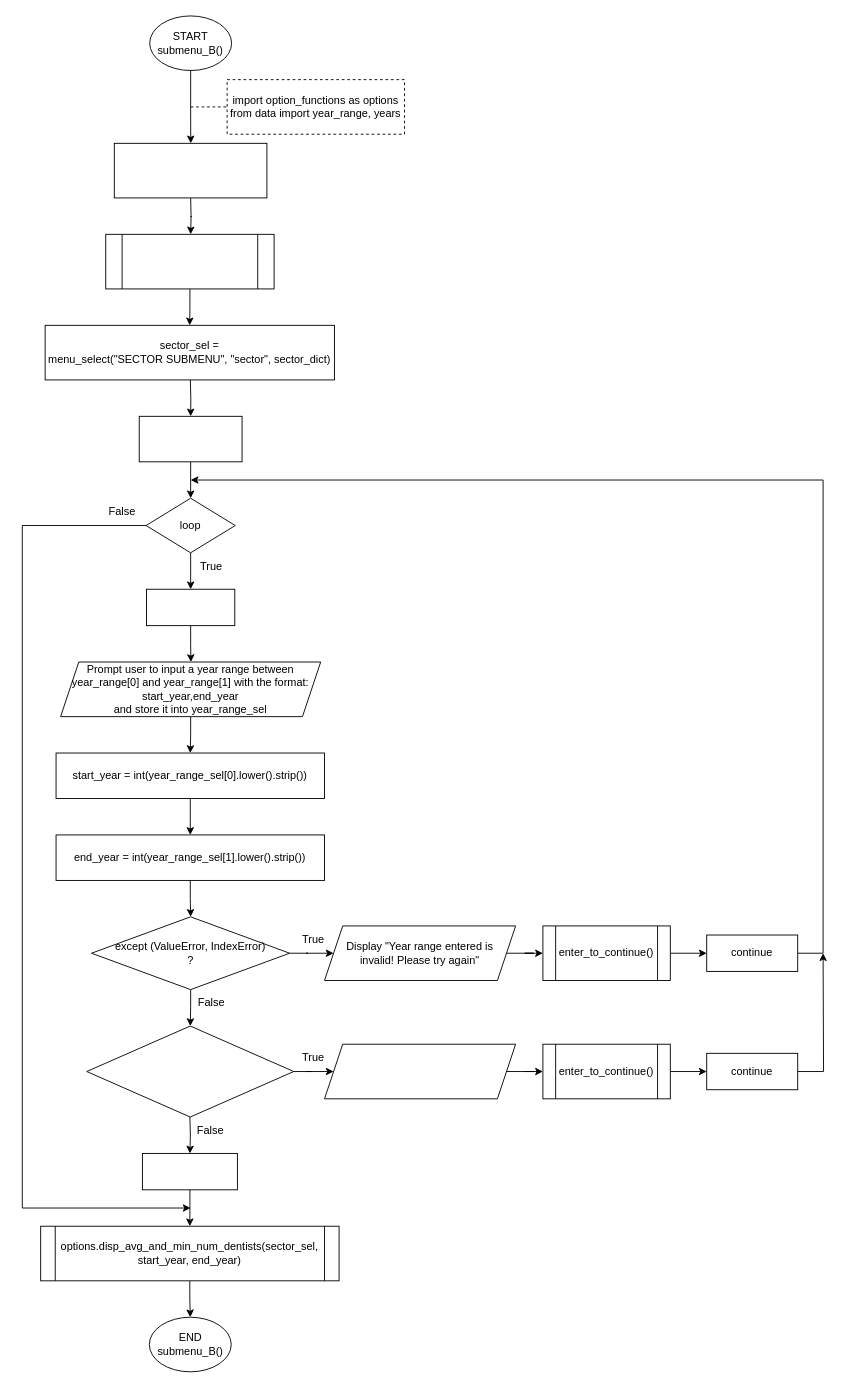
Image size: 847x1388. Some labels were removed from this diagram. The shapes that lost their labels are listed below. From the top down, each one's centre as x and y in pixels, then its label:
pixel 190 170: Initialise year_range_sel, sector_sel to "", start_year, end_year to 0
pixel 189 261: disp_header("OPTION B")
pixel 190 438: set loop to True
pixel 190 607: execute try block
pixel 190 1071: start_year not in years or end_year not in years or start_year >= end_year ?
pixel 420 1071: Display "Year range entered is out of range! Please try again"
pixel 189 1171: break
